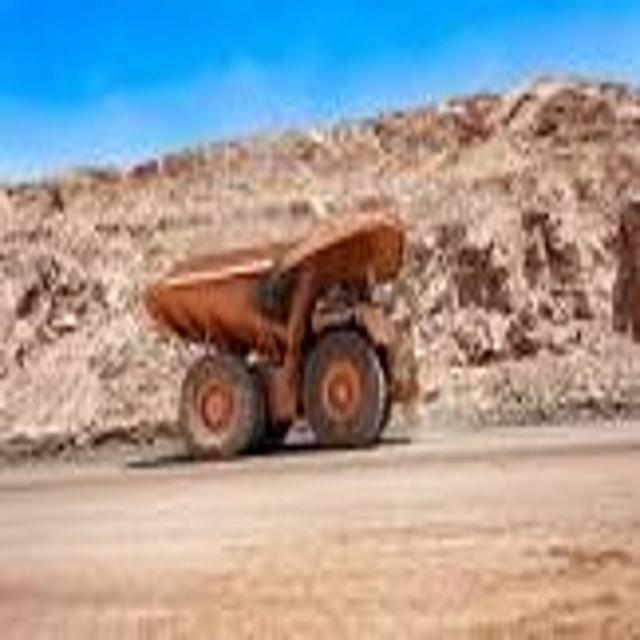dump_truck: (144, 189, 422, 456)
